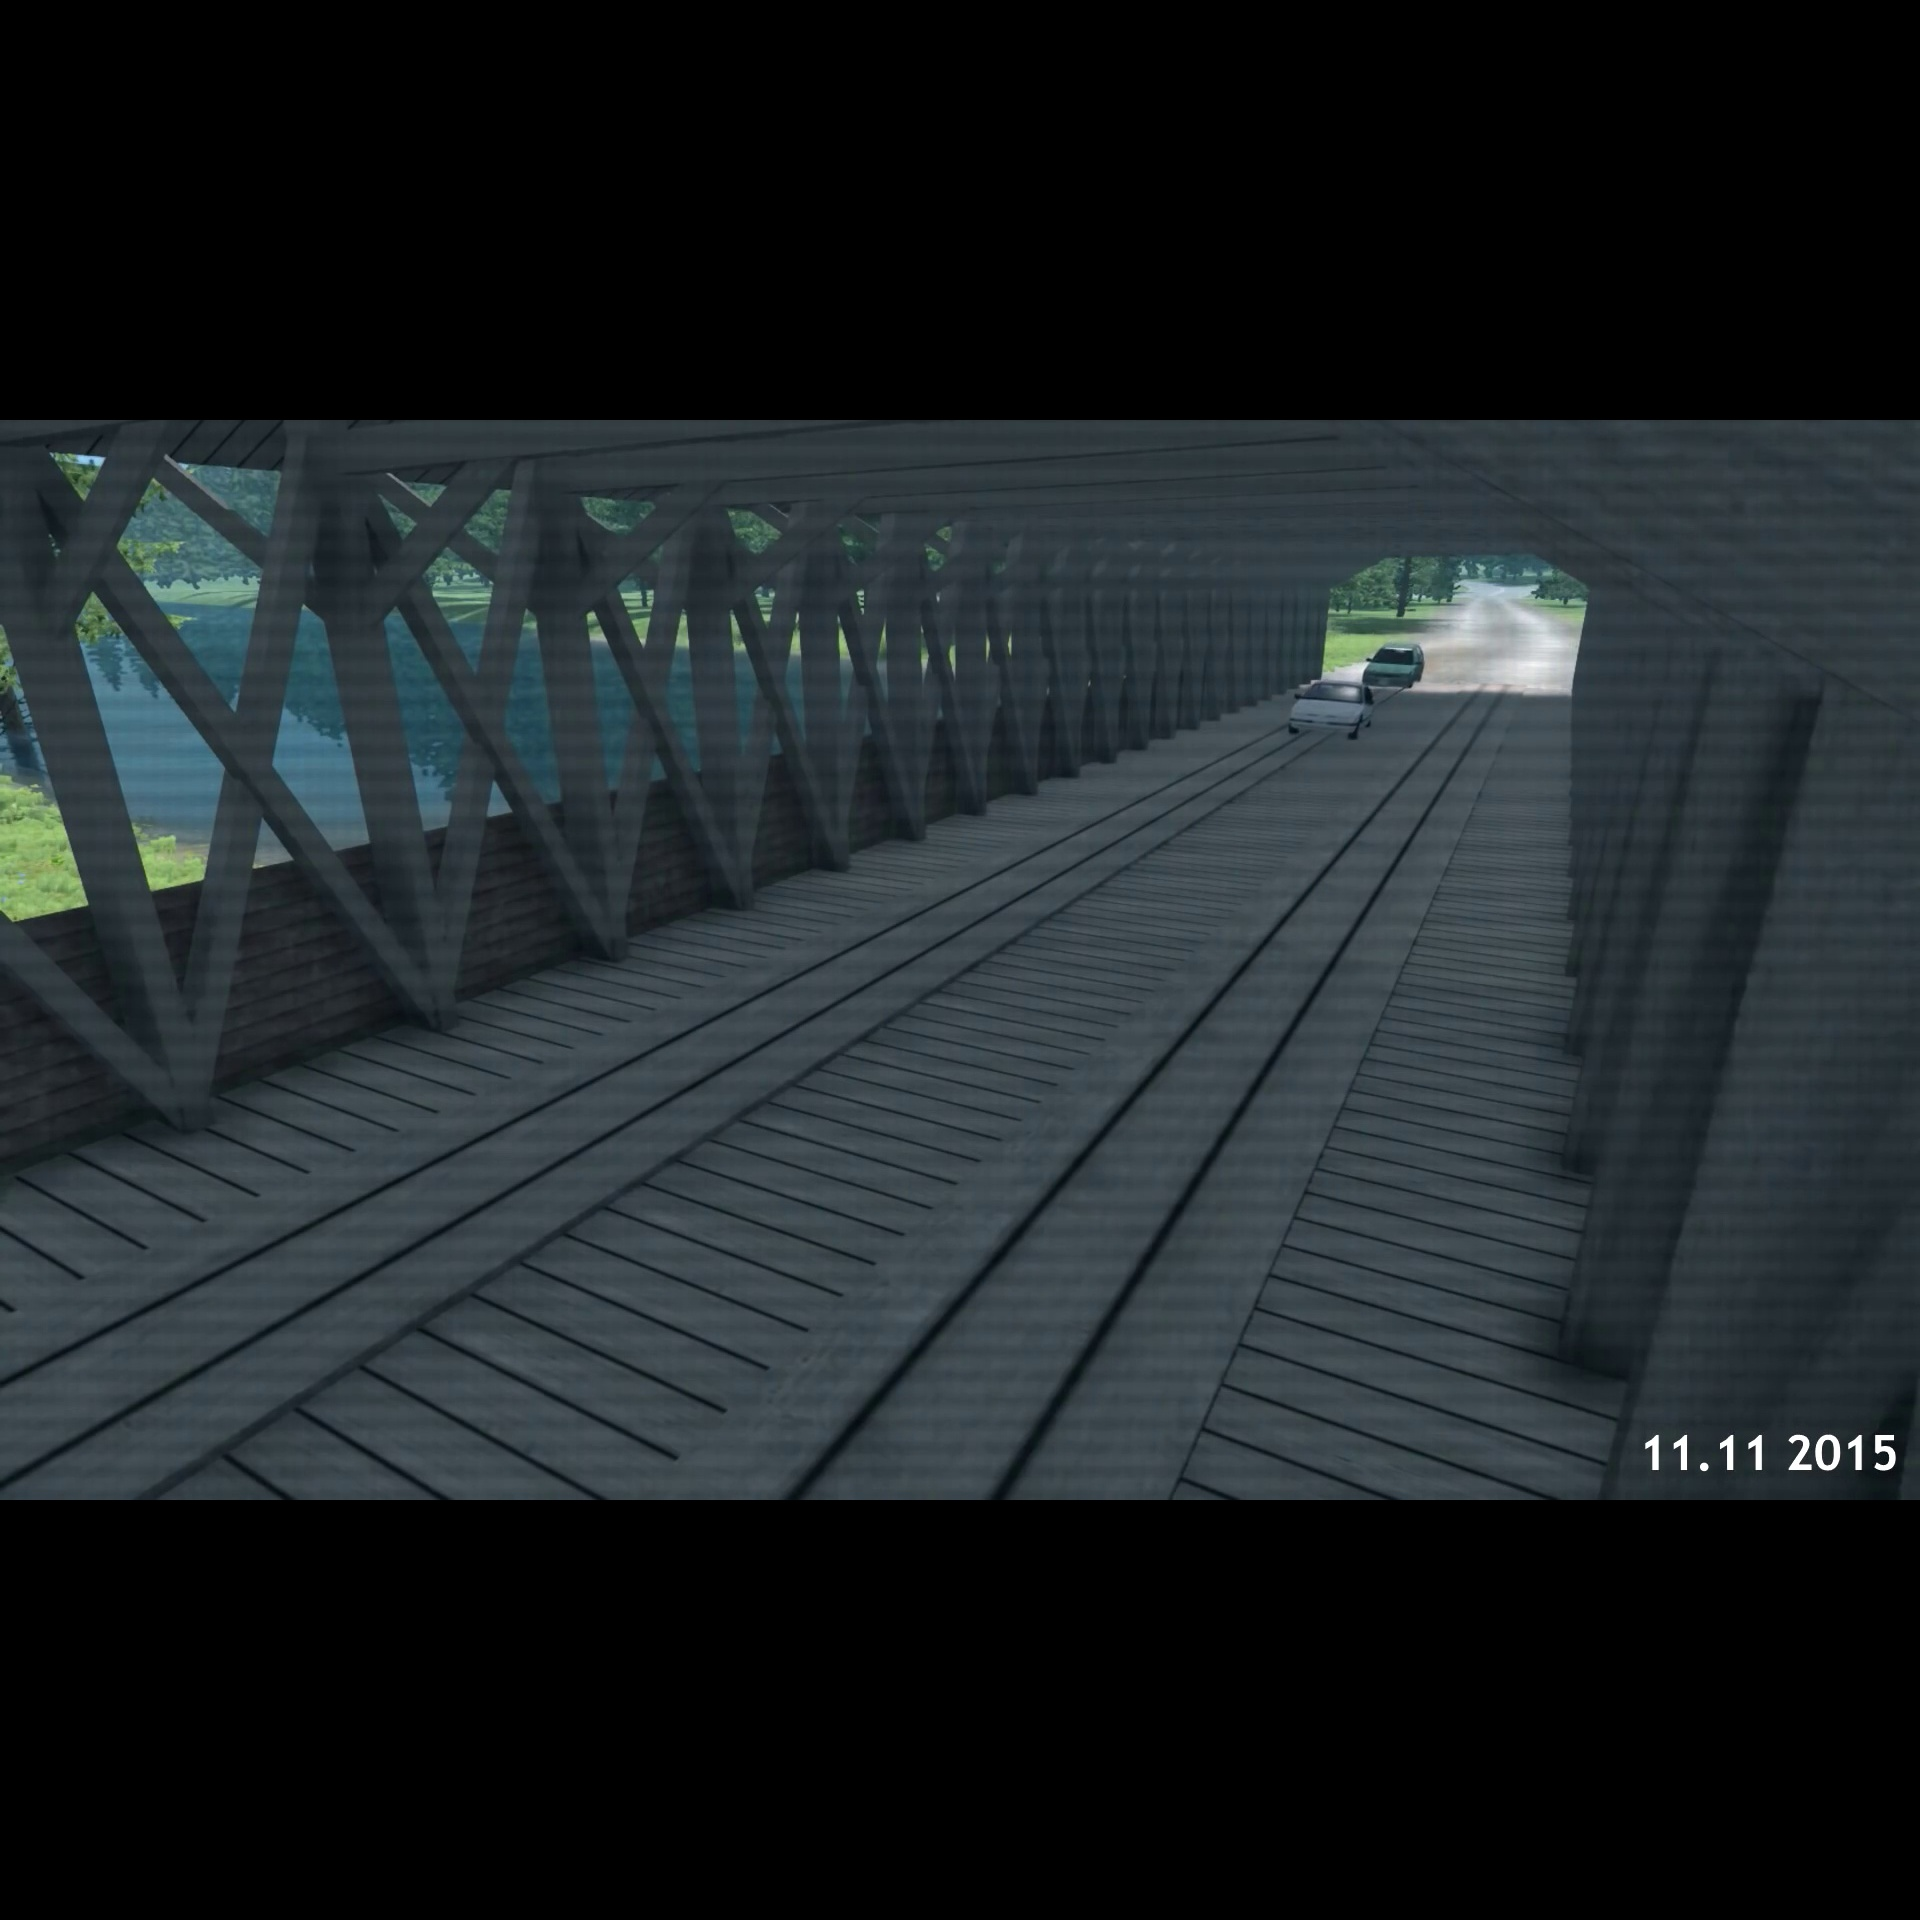vehicle: (1284, 680, 1373, 744), (1361, 638, 1428, 687)
